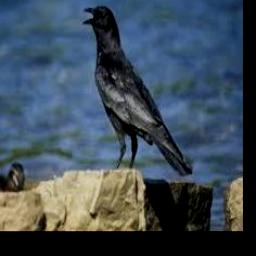Crow: (84, 6, 193, 177)
